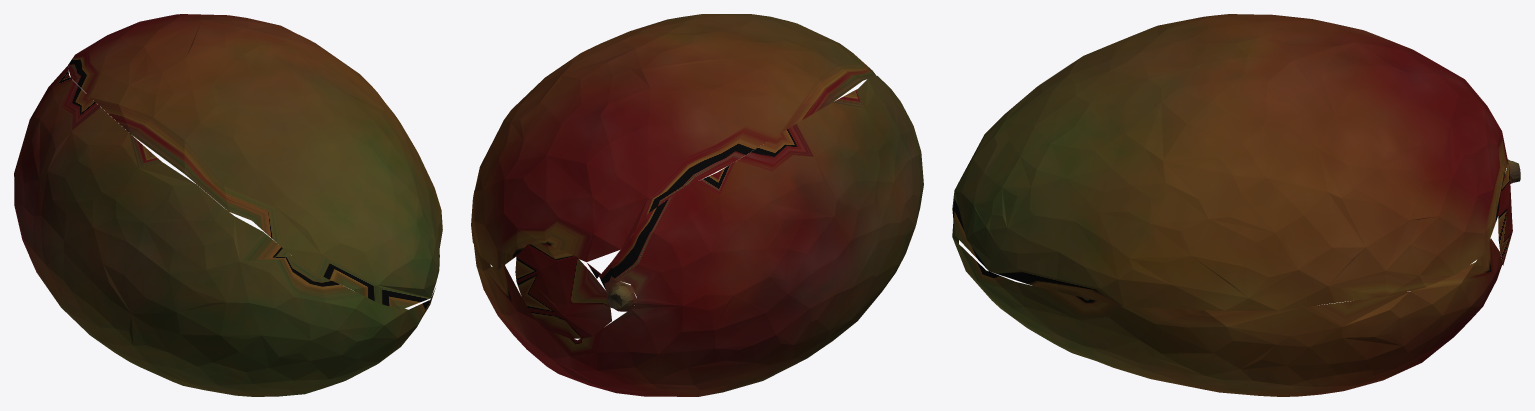
The model's file is food_produce_mango_a01.glb.
3 renders of one model, left to right at view 1: azimuth 30°, elevation 25°; view 2: azimuth 150°, elevation 25°; view 3: azimuth 270°, elevation 25°, orthographic. The views are drawn at different scales.
Parts seen in each view (by area): view 1: geometry_0; view 2: geometry_0; view 3: geometry_0.
Boxes of the visible parts, x1,y1,x2,y2 form: geometry_0: (14, 14, 442, 396); geometry_0: (471, 14, 923, 396); geometry_0: (952, 14, 1520, 396).
Bounding box in the file's own units: 0.3132 × 0.2755 × 0.42.
Materials: 1 (1 with a texture image).
